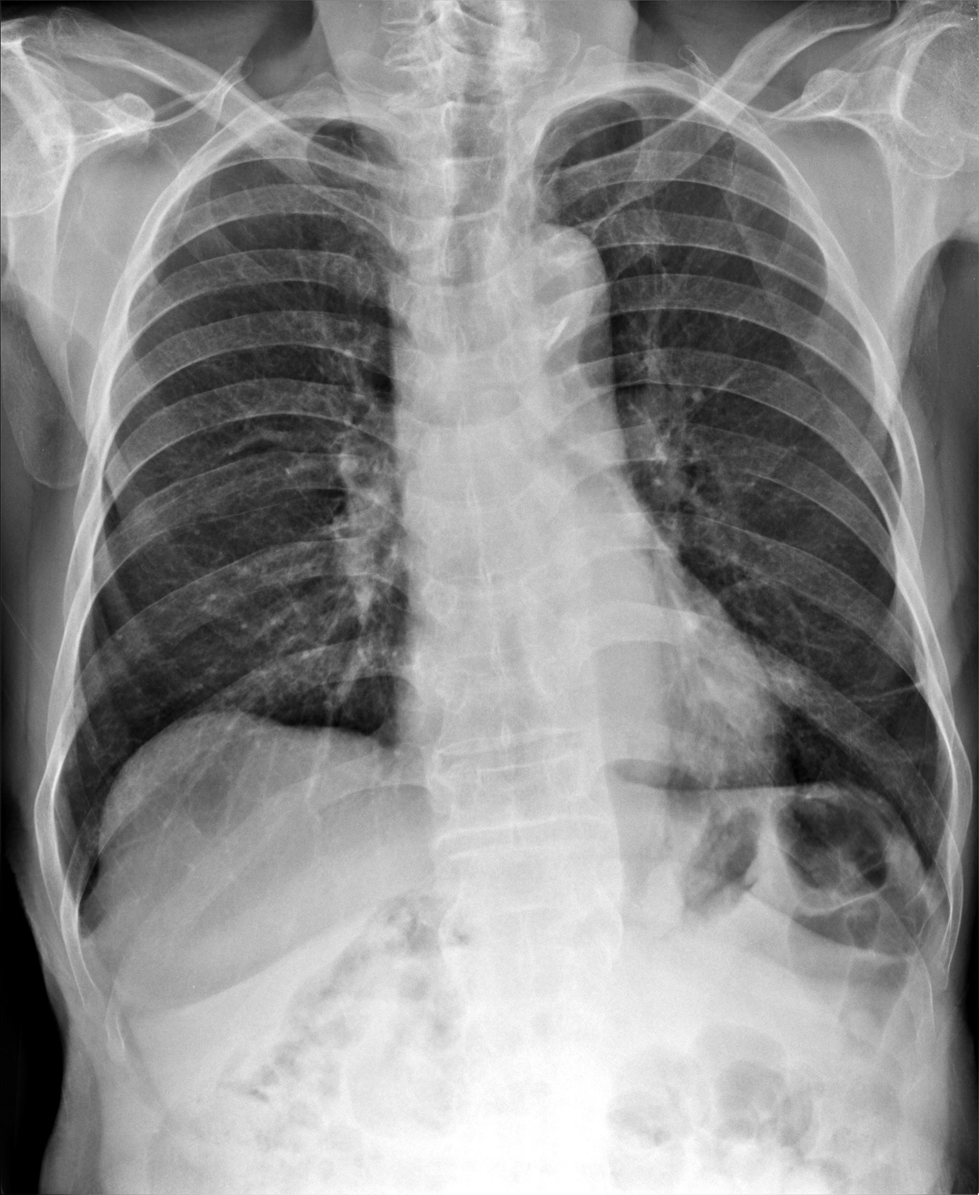Aortic enlargement: (484, 232, 613, 339)
Pleural thickening: (52, 891, 120, 946), (907, 845, 957, 913)
Pulmonary fibrosis: (863, 682, 923, 703)
